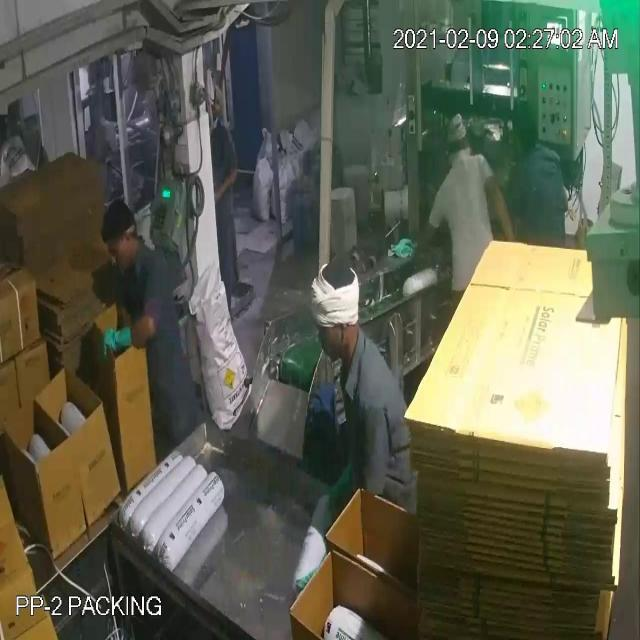Gloves: (32, 40, 501, 343)
